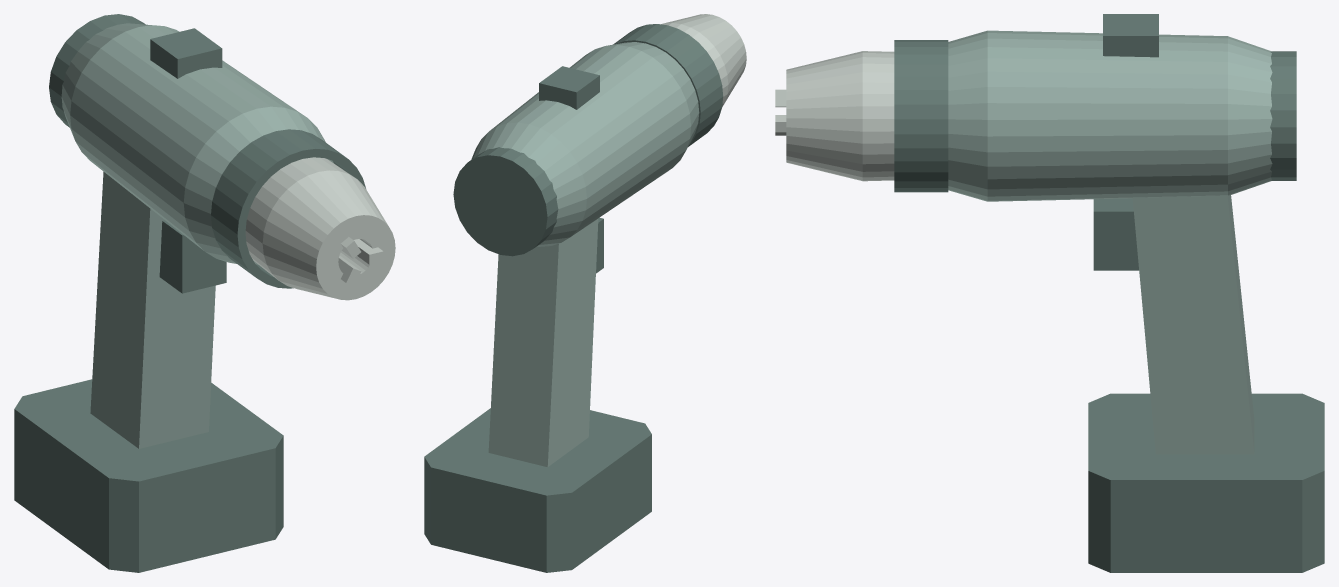
3 views of the same model, side by side, from view 1: azimuth 30°, elevation 25°; view 2: azimuth 150°, elevation 25°; view 3: azimuth 270°, elevation 25° (orthographic). The views are drawn at different scales.
Parts seen in each view (by area): view 1: WholeBroadBatteryFootCase, WholeHorizontalMotorHousing, WholeCantedHandGripCase, WholeTrueAnnularFrontChuck, WholeThickFrontAdjustmentCollar, WholeSeparateFrontTrigger, WholePlainTopSelector, WholePlainRearMotorCap; view 2: WholeBroadBatteryFootCase, WholeHorizontalMotorHousing, WholeCantedHandGripCase, WholePlainRearMotorCap, WholeThickFrontAdjustmentCollar, WholeTrueAnnularFrontChuck, WholePlainTopSelector; view 3: WholeHorizontalMotorHousing, WholeBroadBatteryFootCase, WholeCantedHandGripCase, WholeTrueAnnularFrontChuck, WholeThickFrontAdjustmentCollar, WholePlainRearMotorCap, WholeSeparateFrontTrigger, WholePlainTopSelector.
Part boxes in pixels (box(x1,y1,x2,y2)): WholeBroadBatteryFootCase: box(14, 379, 283, 572); WholeHorizontalMotorHousing: box(61, 23, 333, 264); WholeCantedHandGripCase: box(90, 171, 215, 448); WholeTrueAnnularFrontChuck: box(245, 157, 395, 300); WholeThickFrontAdjustmentCollar: box(211, 129, 365, 288); WholeSeparateFrontTrigger: box(159, 220, 226, 293); WholePlainTopSelector: box(150, 28, 222, 78); WholePlainRearMotorCap: box(49, 14, 145, 127); WholeBroadBatteryFootCase: box(424, 408, 651, 572); WholeHorizontalMotorHousing: box(471, 42, 699, 246); WholeCantedHandGripCase: box(488, 218, 598, 467); WholePlainRearMotorCap: box(453, 147, 558, 256); WholeThickFrontAdjustmentCollar: box(613, 24, 723, 146); WholeTrueAnnularFrontChuck: box(661, 14, 746, 106); WholePlainTopSelector: box(539, 66, 599, 109); WholeHorizontalMotorHousing: box(948, 30, 1272, 201); WholeBroadBatteryFootCase: box(1088, 393, 1324, 572); WholeCantedHandGripCase: box(1132, 195, 1254, 454); WholeTrueAnnularFrontChuck: box(786, 51, 894, 181); WholeThickFrontAdjustmentCollar: box(894, 40, 948, 192); WholePlainRearMotorCap: box(1270, 51, 1296, 180); WholeSeparateFrontTrigger: box(1093, 198, 1138, 270); WholePlainTopSelector: box(1103, 14, 1158, 57).
Size of the model in its own units: 0.11 by 0.299 by 0.295.
